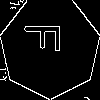F: (25, 22, 69, 53)
